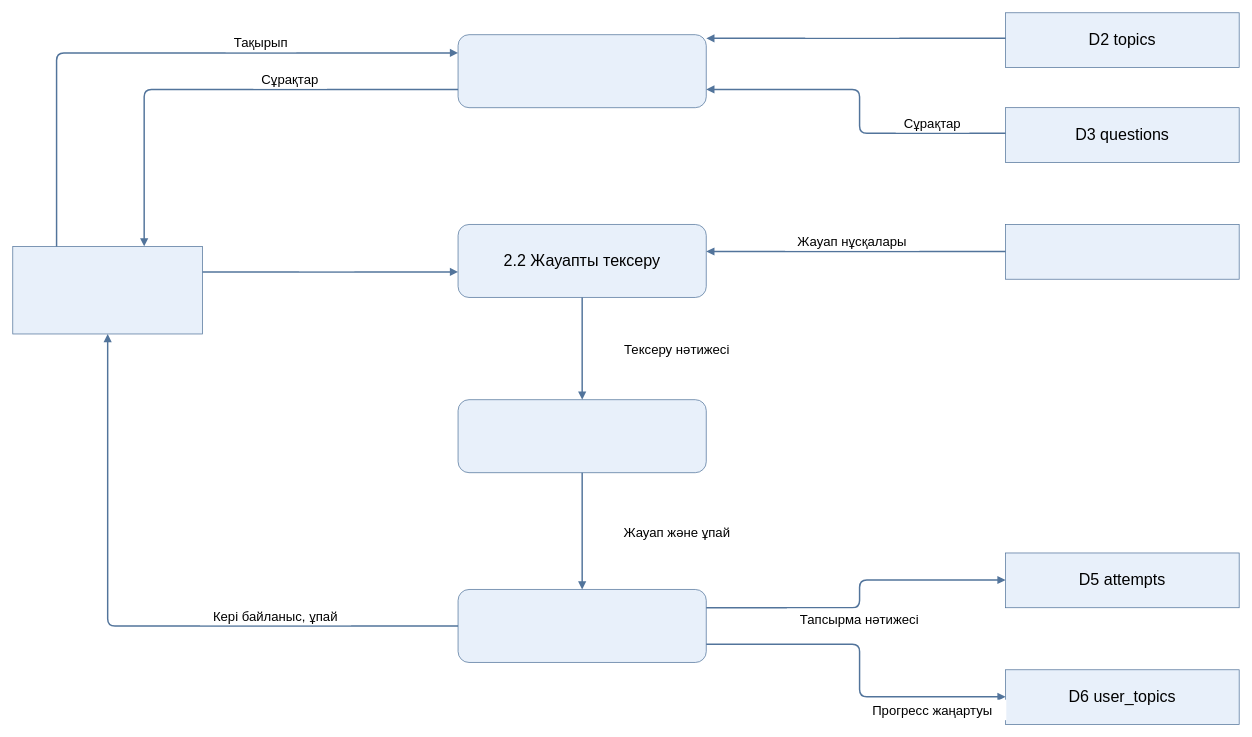
Image size: 1252x737. Some labels were removed from this diagram. Each missing label, with the centre of its shape:
"2.1 Тақырып пен сұрақтарды көрсету" goes at point (581, 71).
"2.3 Ұпай есептеу" goes at point (581, 436).
"2.4 Нәтижені сақтау" goes at point (581, 625).
"D4 answers" goes at point (1122, 251).
"Жауап" goes at point (326, 260).
"Оқушы немесе студент" goes at point (107, 290).
"Тақырыптар" goes at point (852, 27).
